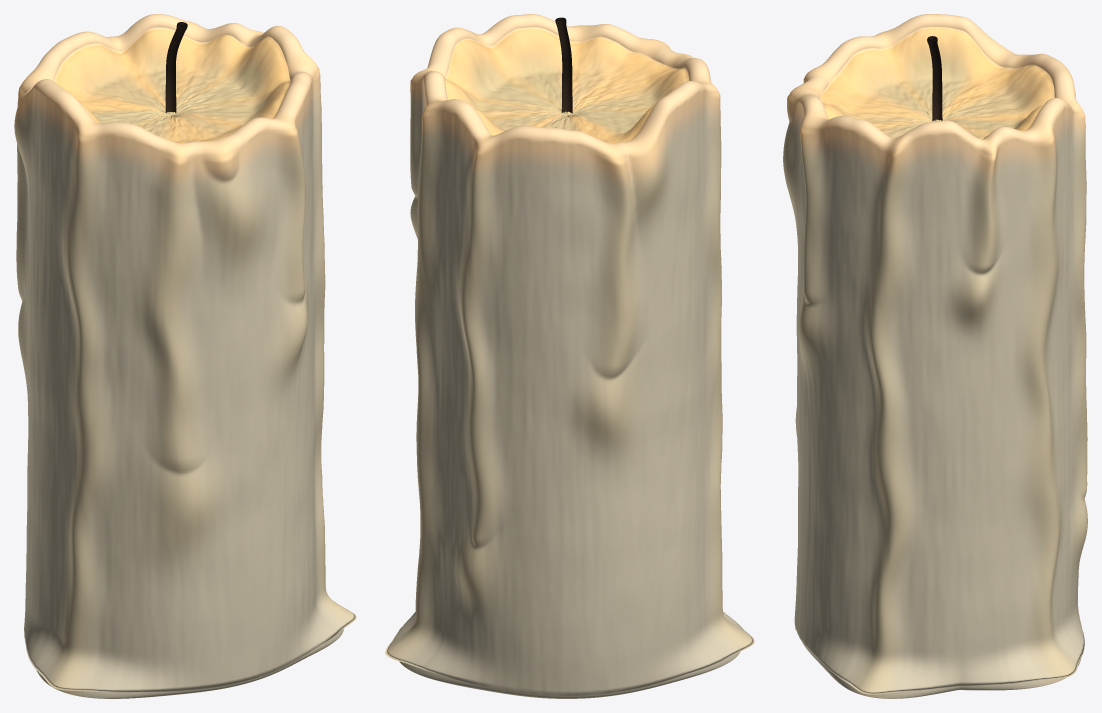
The model's file is candle_hero_ivory.glb.
3 views of the same model, side by side, from view 1: azimuth 30°, elevation 25°; view 2: azimuth 150°, elevation 25°; view 3: azimuth 270°, elevation 25° (orthographic). The views are drawn at different scales.
Parts seen in each view (by area): view 1: candle_hero_ivory; view 2: candle_hero_ivory; view 3: candle_hero_ivory.
Boxes of the visible parts, x1=… form: candle_hero_ivory: x1=14, y1=14, x2=356, y2=698; candle_hero_ivory: x1=385, y1=14, x2=754, y2=698; candle_hero_ivory: x1=783, y1=14, x2=1087, y2=698.
Size of the model in its own units: 0.0791 by 0.1531 by 0.0708.
Materials: 2 (1 with a texture image).
